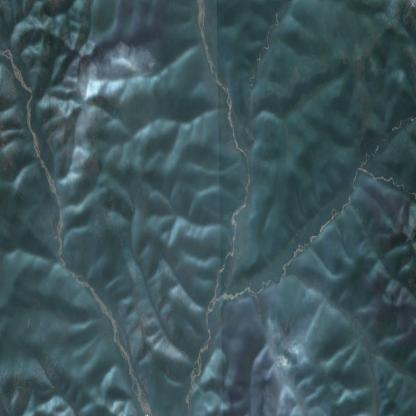fire: (210, 306, 300, 362), (135, 52, 161, 78)
